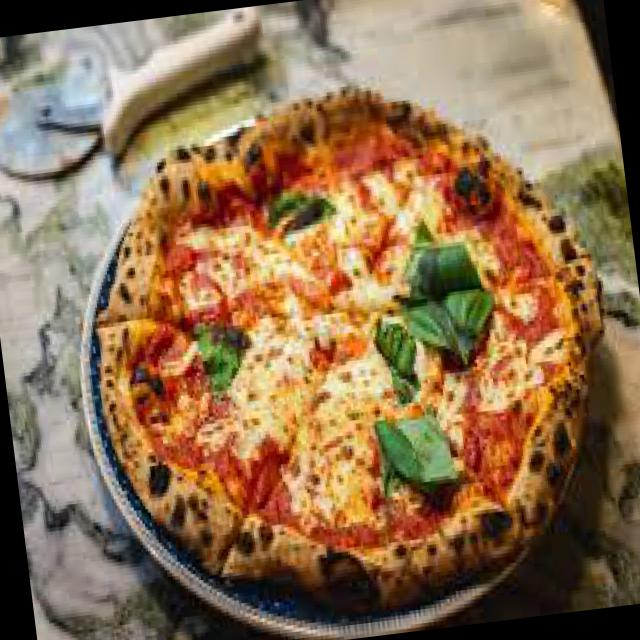pizza: (68, 61, 634, 636)
